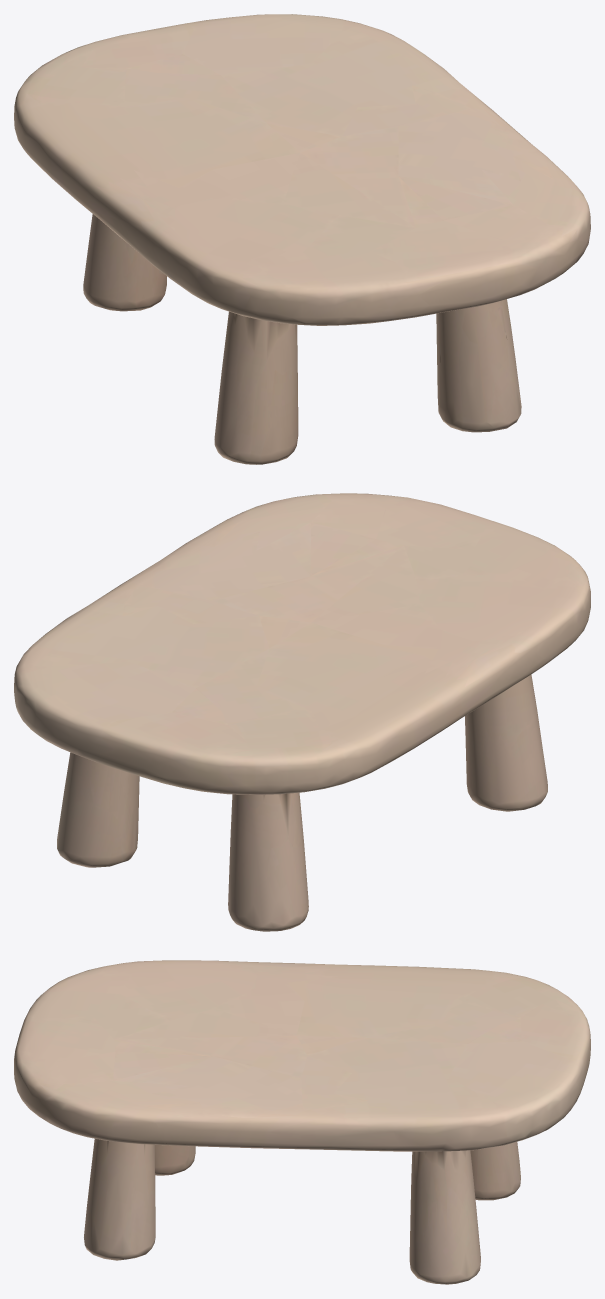
The model's file is living_coffee_table.glb.
3 renders of one model, top to bottom at view 1: azimuth 30°, elevation 25°; view 2: azimuth 150°, elevation 25°; view 3: azimuth 270°, elevation 25°, orthographic. The views are drawn at different scales.
Visible parts, largest first — view 1: tripo_node_a838b0b0-0095-4a54-b3c5-0f83338717ba; view 2: tripo_node_a838b0b0-0095-4a54-b3c5-0f83338717ba; view 3: tripo_node_a838b0b0-0095-4a54-b3c5-0f83338717ba.
Boxes of the visible parts, left/top/right/bottom form: tripo_node_a838b0b0-0095-4a54-b3c5-0f83338717ba: left=14, top=14, right=590, bottom=464; tripo_node_a838b0b0-0095-4a54-b3c5-0f83338717ba: left=14, top=493, right=590, bottom=931; tripo_node_a838b0b0-0095-4a54-b3c5-0f83338717ba: left=14, top=960, right=590, bottom=1284.
Bounding box in the file's own units: 0.6758 × 0.3442 × 1.
1 material, 1 textured.
